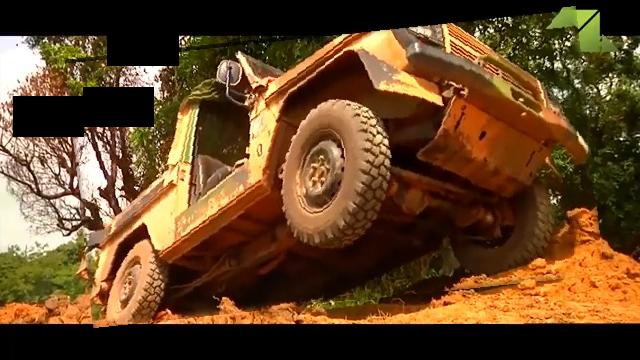MIL_HMMWV: (71, 19, 598, 315)
